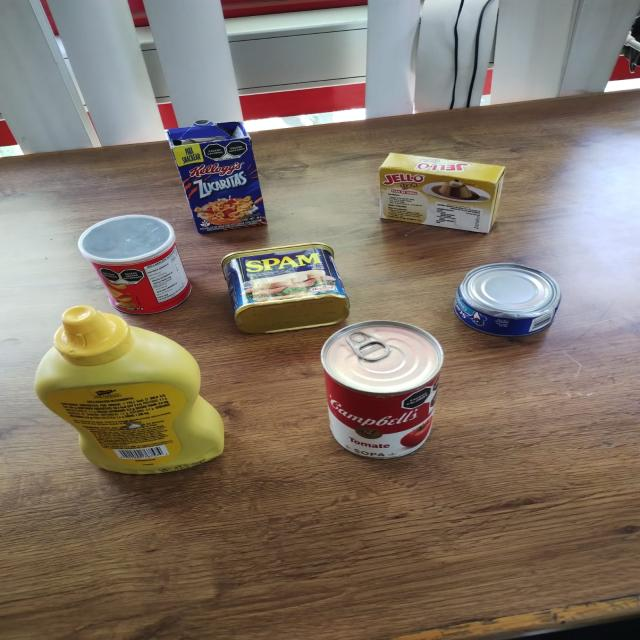can of cream: (320, 321, 442, 458)
can of tuna: (453, 263, 559, 336)
cereal: (163, 119, 267, 232)
chips: (76, 218, 189, 314)
jelly: (375, 152, 500, 235)
mustard: (34, 306, 228, 480)
spam: (220, 243, 348, 331)
